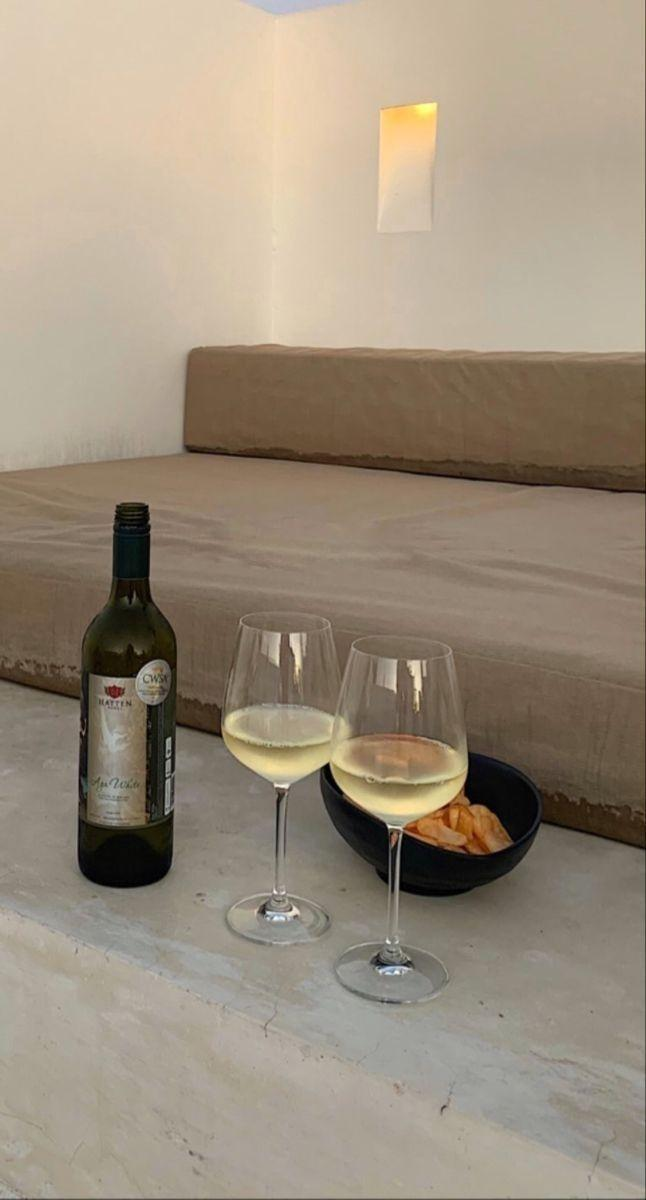bottle-glass: (73, 500, 180, 888)
glass-wine: (324, 635, 471, 1006), (215, 609, 341, 943)
